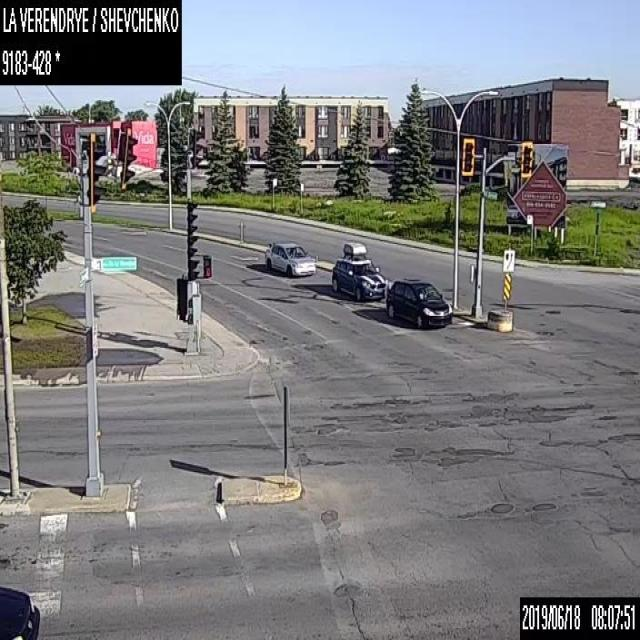vehicle: (385, 276, 453, 329), (331, 240, 386, 300), (0, 584, 39, 639), (264, 240, 316, 276)
